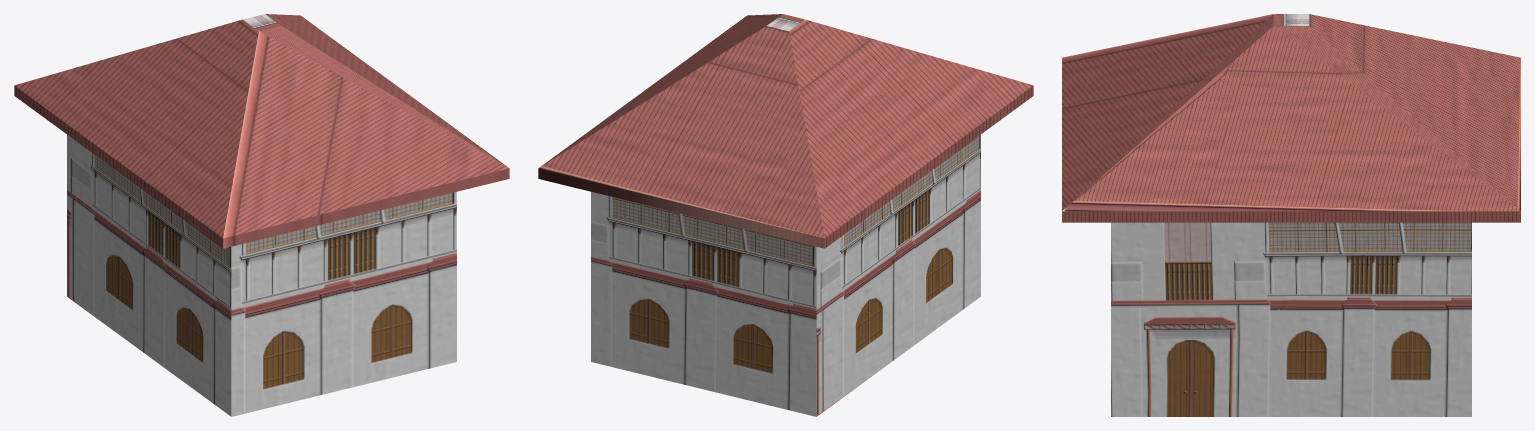
The model's file is house 12.fbx.
3 renders of one model, left to right at view 1: azimuth 30°, elevation 25°; view 2: azimuth 150°, elevation 25°; view 3: azimuth 270°, elevation 25°, orthographic. The views are drawn at different scales.
Visible parts, largest first — view 1: Cube; view 2: Cube; view 3: Cube.
Part boxes in pixels (x1,y1,x2,y2): Cube: (14,14,509,416); Cube: (538,14,1033,416); Cube: (1062,14,1520,416).
Size of the model in its own units: 4562 by 4663 by 5761.
